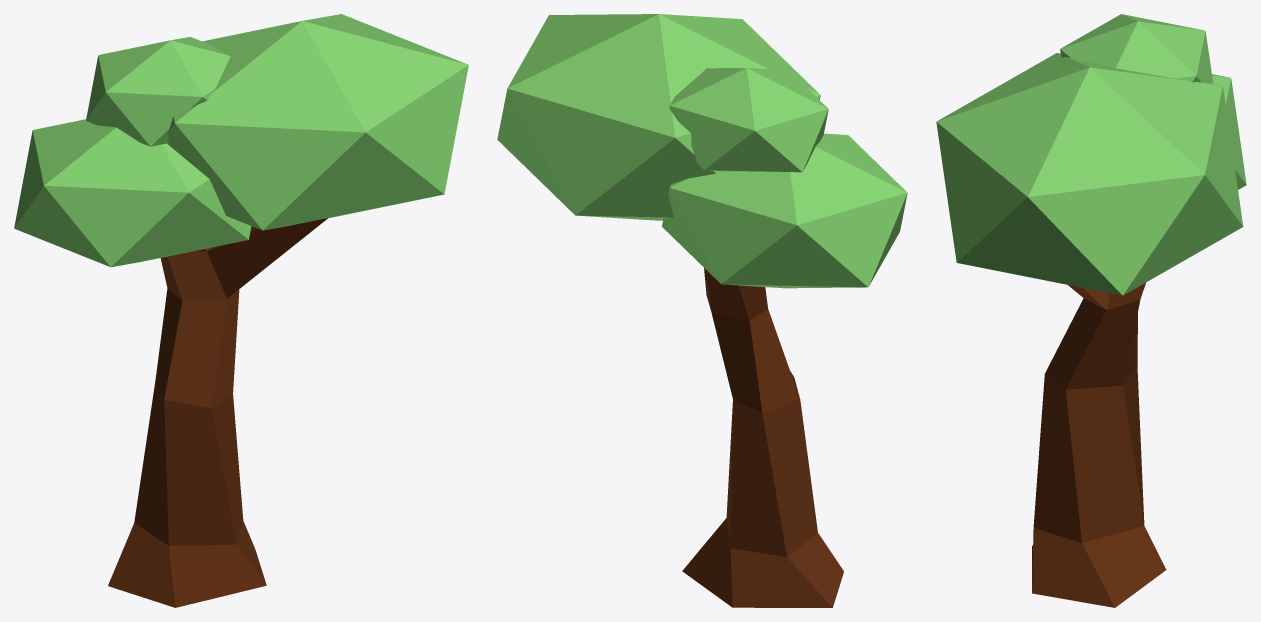
Rendered from Tree_2.fbx.
The picture shows the model from 3 angles, left to right: view 1: azimuth 30°, elevation 25°; view 2: azimuth 150°, elevation 25°; view 3: azimuth 270°, elevation 25°; orthographic projection. The views are drawn at different scales.
Parts seen in each view (by area): view 1: Tree_2; view 2: Tree_2; view 3: Tree_2.
Part boxes in pixels (<box>): Tree_2: <box>14,14,468,607</box>; Tree_2: <box>497,14,907,607</box>; Tree_2: <box>936,14,1246,607</box>.
Bounding box in the file's own units: 787 × 1010 × 509.
